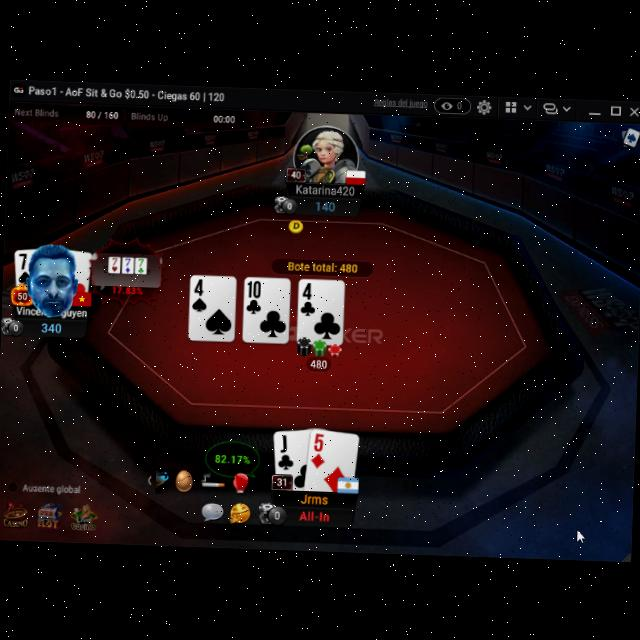4c: (300, 280, 318, 317)
4s: (190, 276, 208, 314)
5d: (310, 430, 328, 470)
Jc: (277, 431, 296, 471)
Tc: (244, 278, 264, 316)
all_in_symbol: (296, 506, 330, 522)
dealer: (288, 216, 304, 234)
pot_text: (287, 260, 359, 272)
stack_text: (40, 319, 62, 334), (314, 200, 336, 212)
